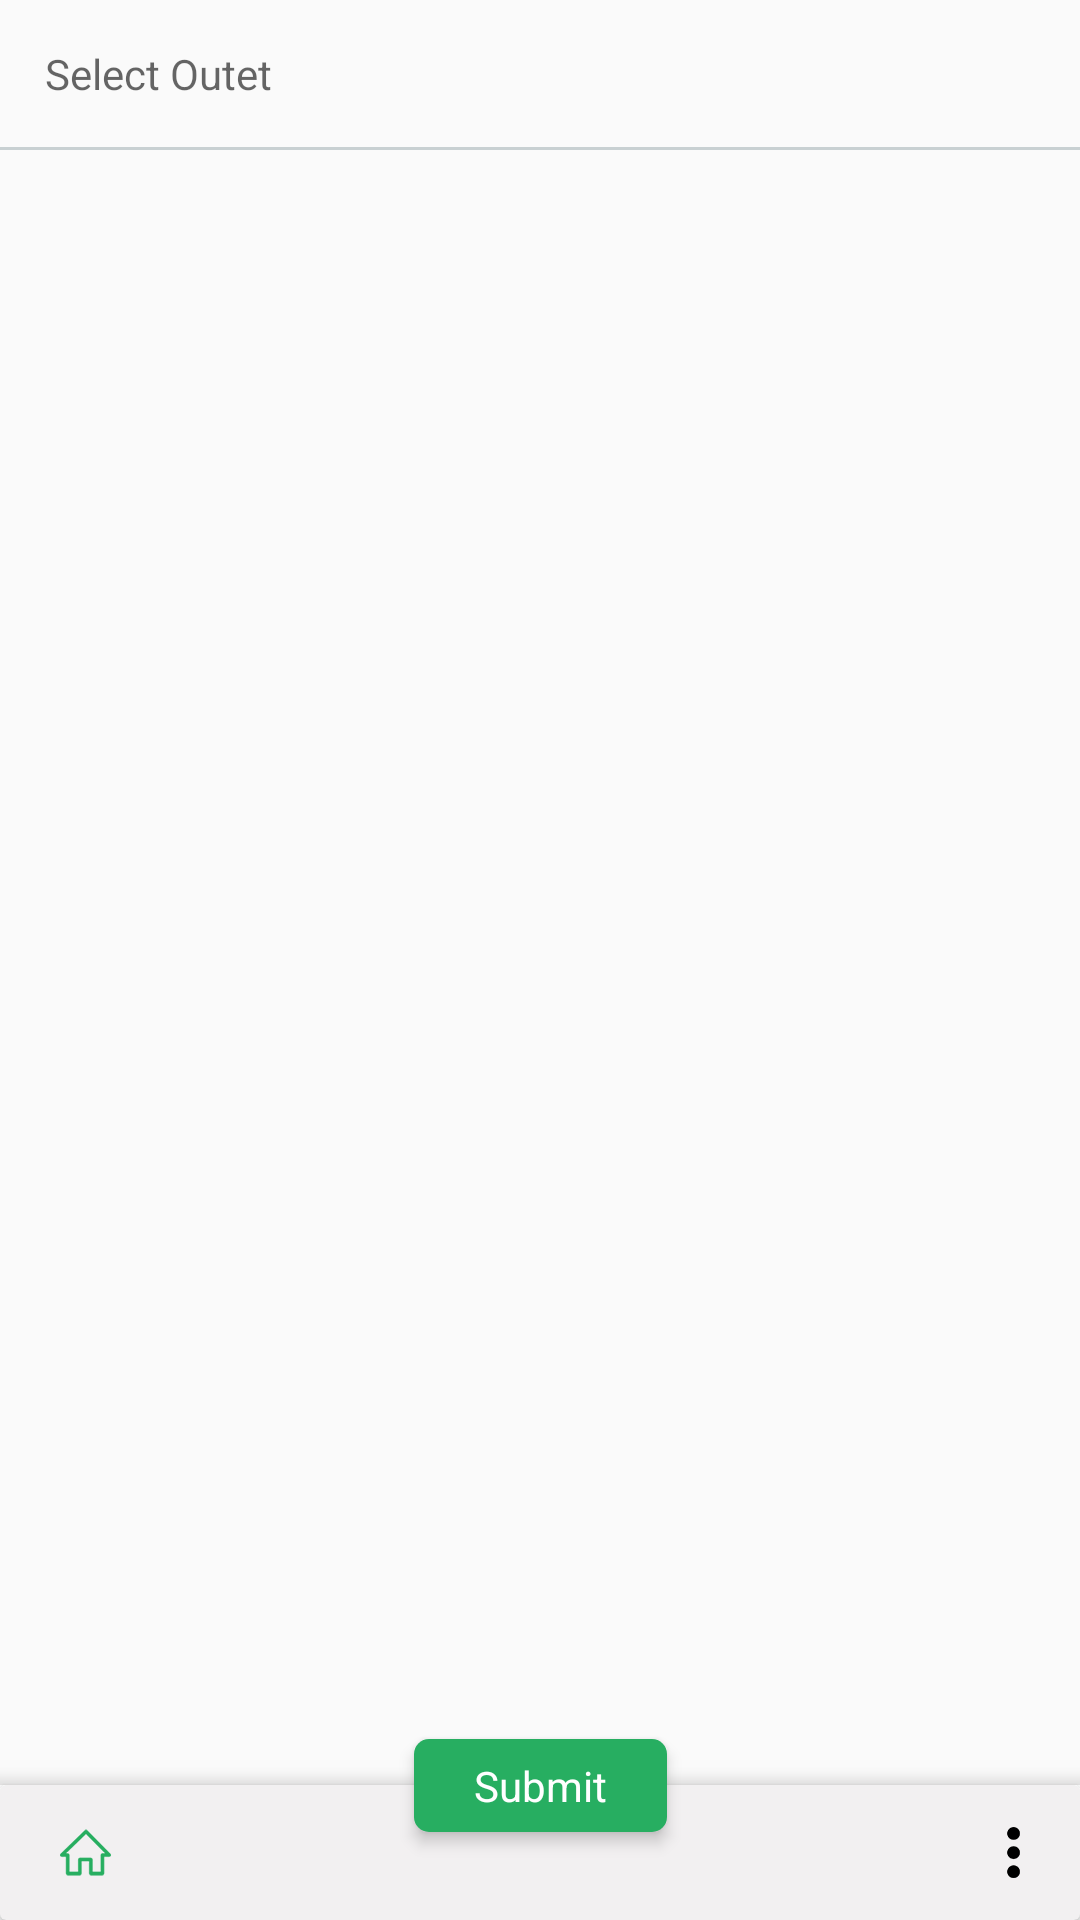

Named icons in this screenshot (1080x1920) and their bounding boxes, bbox=(x1, y1, x2, y2):
home: bbox=(60, 1829, 111, 1876)
overflow: bbox=(1007, 1827, 1020, 1878)
